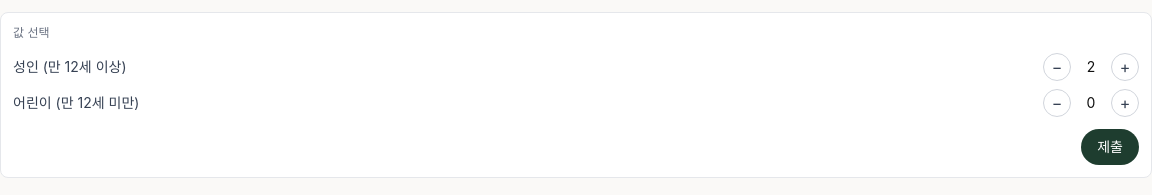
Test: NumberStepper › shows sent state in Korean after submission
The image size is (1152, 195).
Step 1. Click the button with test id "stepper-submit" → (1110, 147), box [1081,129,1139,165]
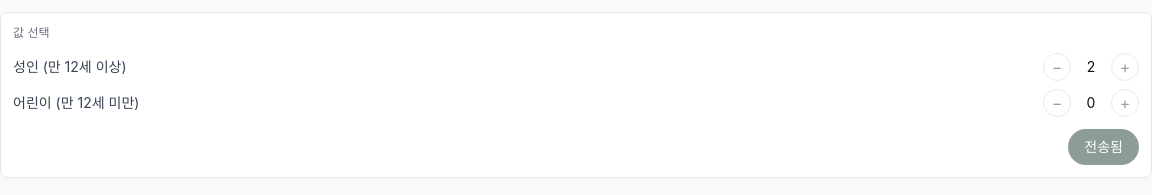
Expected: the button with test id "stepper-submit" reads "전송됨", [1068,129,1139,165]
